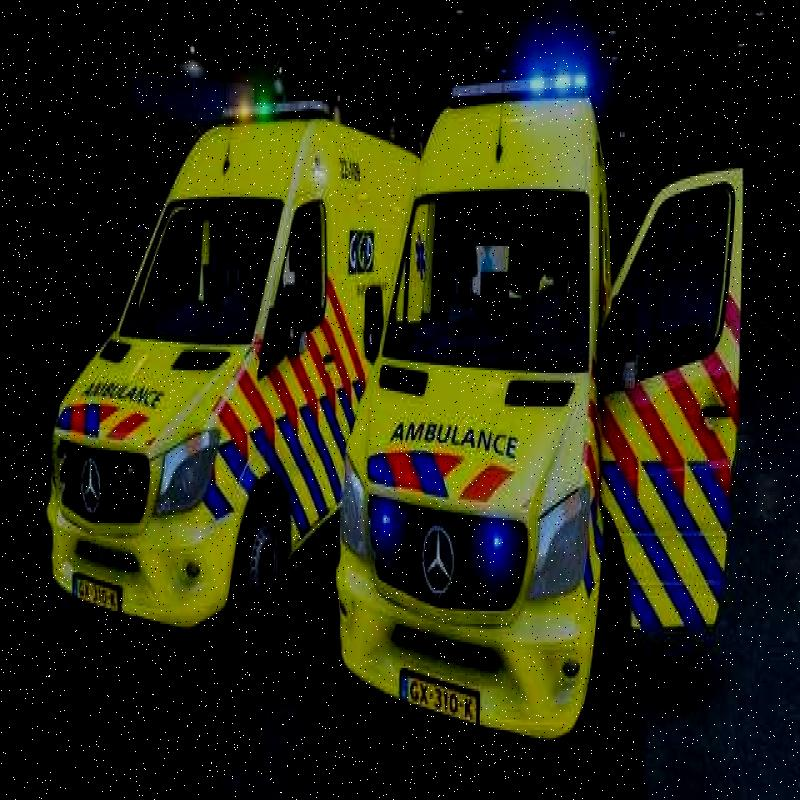AmbulanceSiren: (448, 70, 600, 112)
